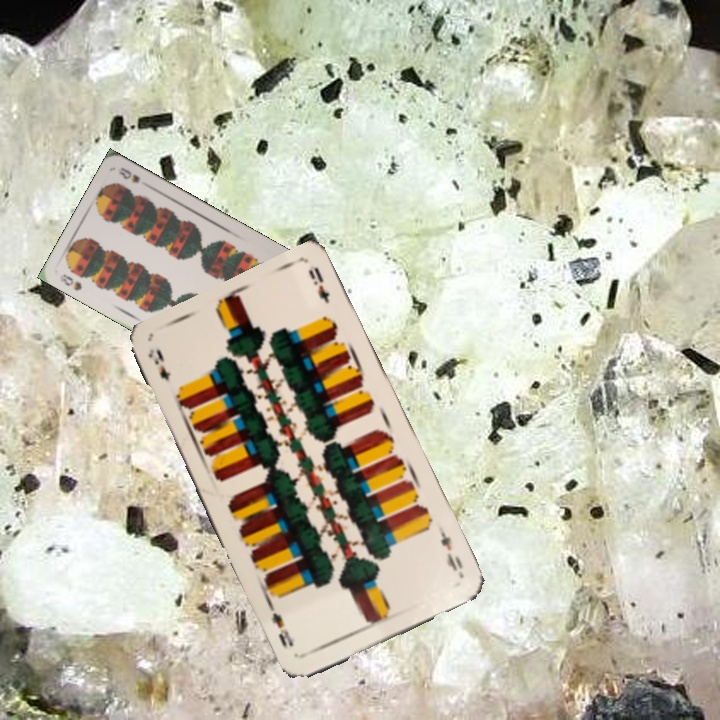E9: (434, 523, 466, 574), (144, 344, 173, 384)
S8: (58, 270, 84, 293)
